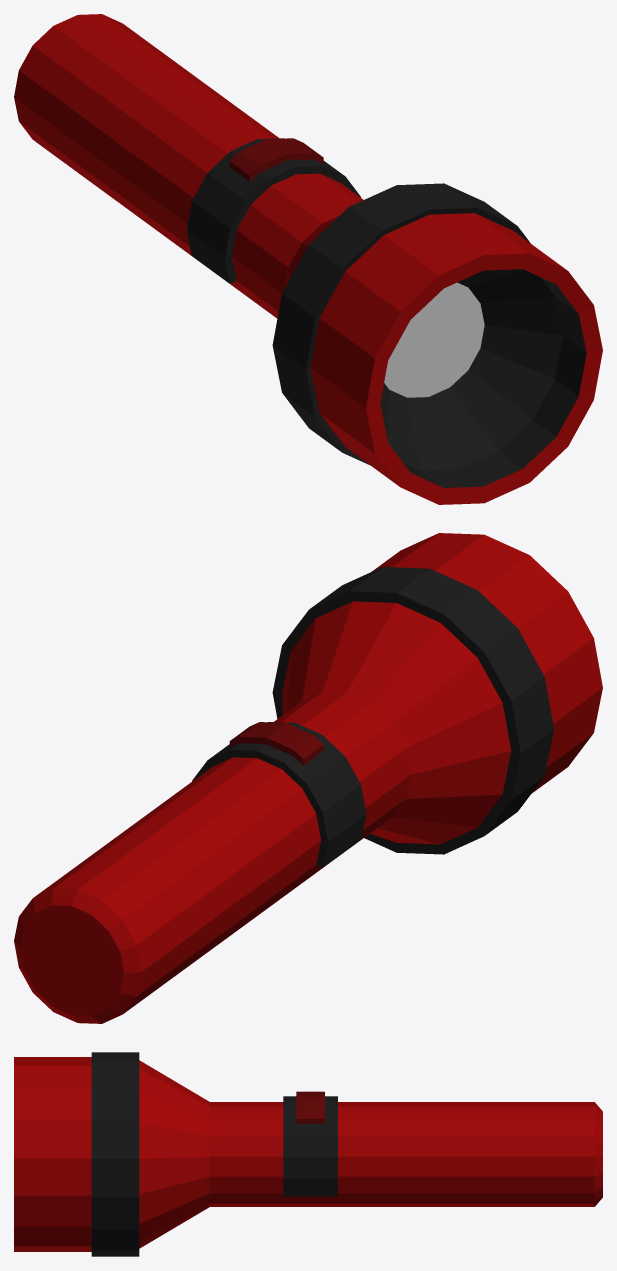
File: Flashlight_02.fbx
The picture shows the model from 3 angles, top to bottom: view 1: azimuth 30°, elevation 25°; view 2: azimuth 150°, elevation 25°; view 3: azimuth 270°, elevation 25°; orthographic projection. The views are drawn at different scales.
Parts seen in each view (by area): view 1: Flashlight_02; view 2: Flashlight_02; view 3: Flashlight_02.
Boxes of the visible parts, bbox=[...] form: Flashlight_02: bbox=[14, 14, 602, 504]; Flashlight_02: bbox=[14, 533, 602, 1023]; Flashlight_02: bbox=[14, 1052, 602, 1256].
Size of the model in its own units: 14.84 by 14.84 by 42.72.
